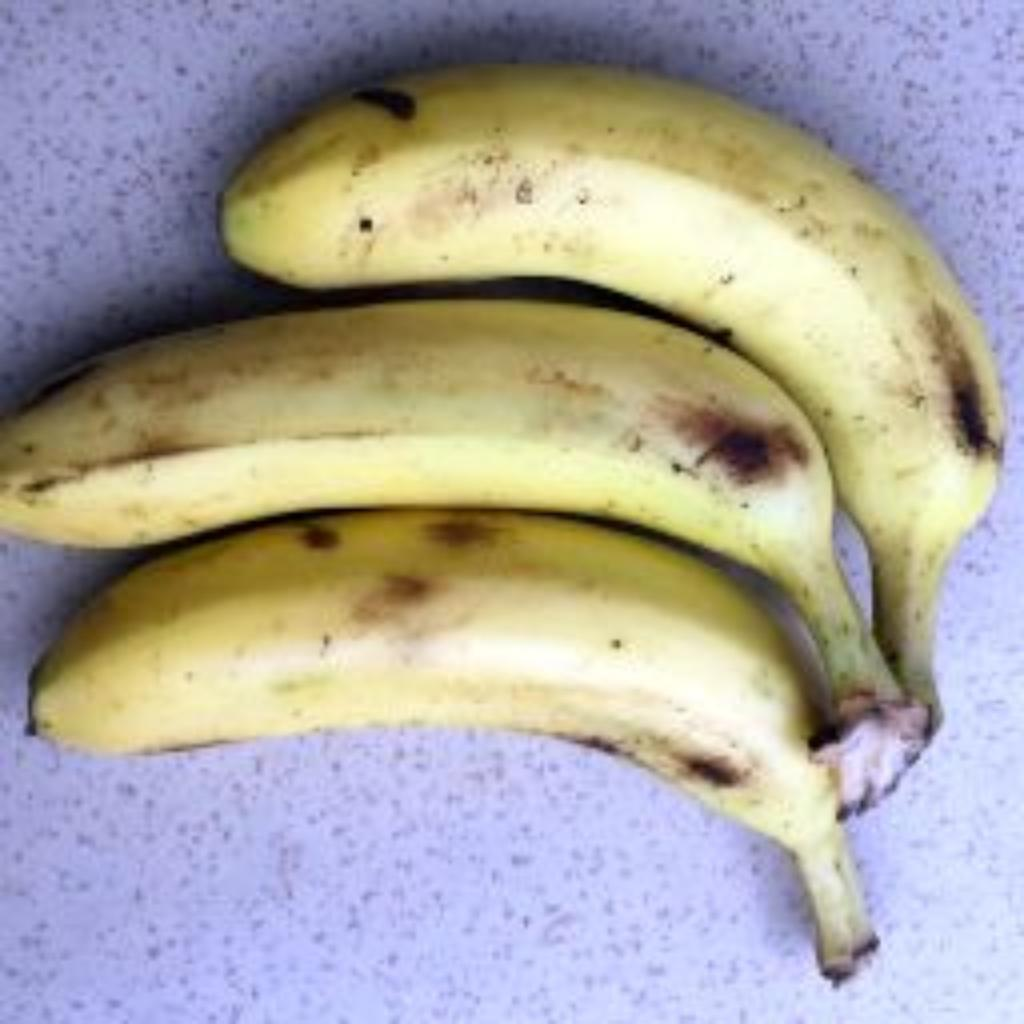banana: (224, 66, 1004, 703), (34, 512, 874, 975), (0, 300, 896, 703)
